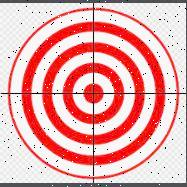target_red: (6, 6, 180, 181)
